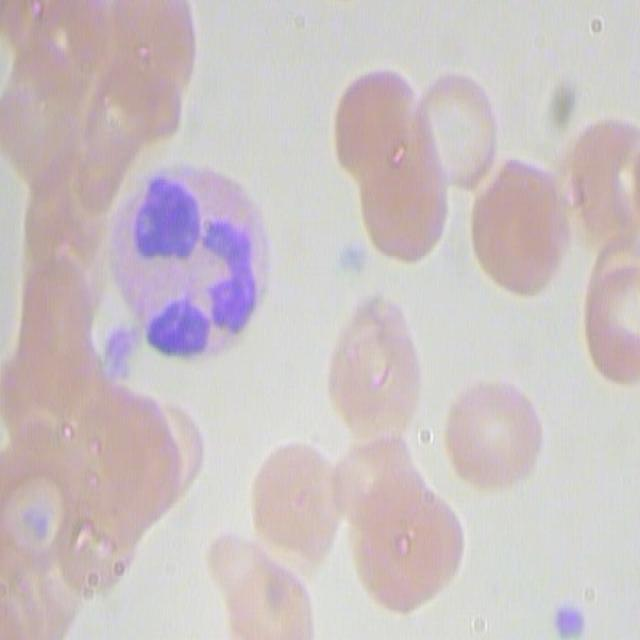RBC: (349, 55, 456, 263), (63, 380, 206, 534), (222, 432, 346, 582), (81, 2, 200, 149), (350, 480, 465, 616), (323, 293, 427, 435), (464, 154, 564, 296), (410, 66, 509, 201), (438, 373, 543, 494), (560, 118, 640, 247), (1, 452, 84, 575), (216, 541, 318, 638), (577, 235, 640, 380)
WBC: (125, 179, 269, 352)
platelets: (95, 308, 143, 405), (547, 597, 597, 640), (335, 237, 370, 276)
